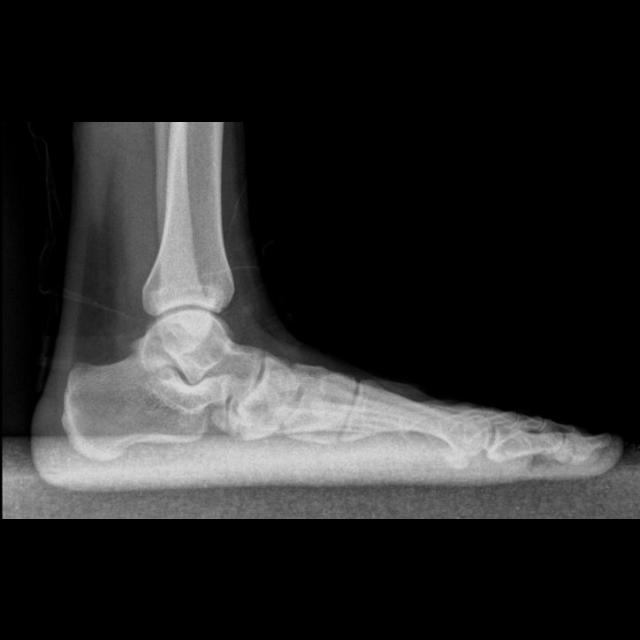a: (62, 354, 206, 459)
b: (234, 356, 300, 440)
c: (340, 382, 490, 465)
